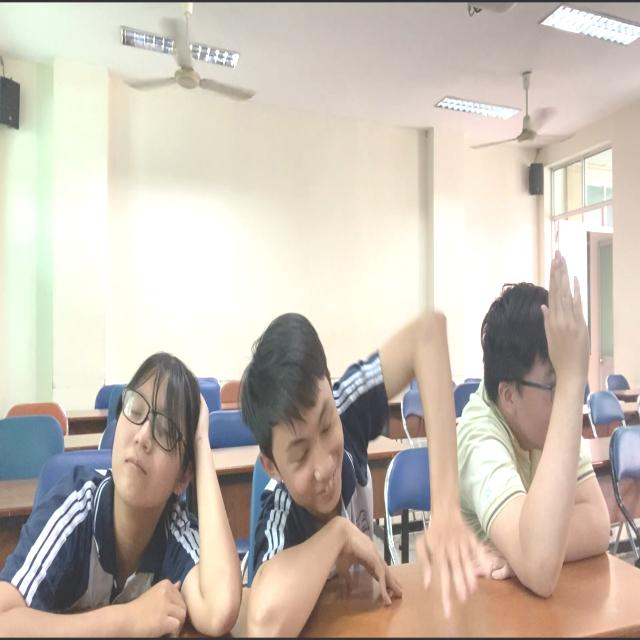raise_hand: (453, 249, 621, 594)
sleep: (1, 355, 248, 637)
